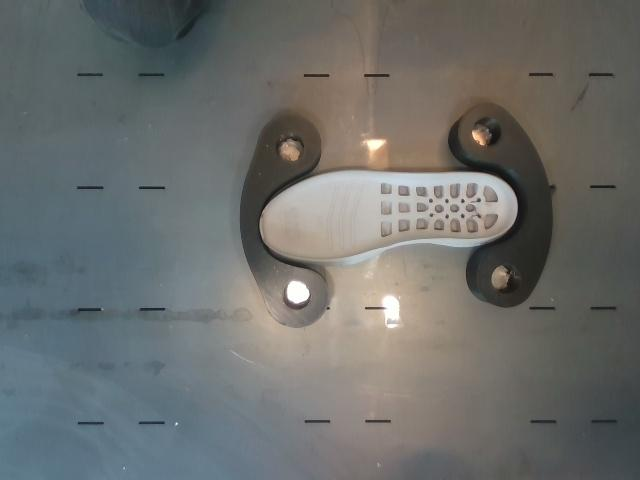shoes: (261, 170, 515, 261)
